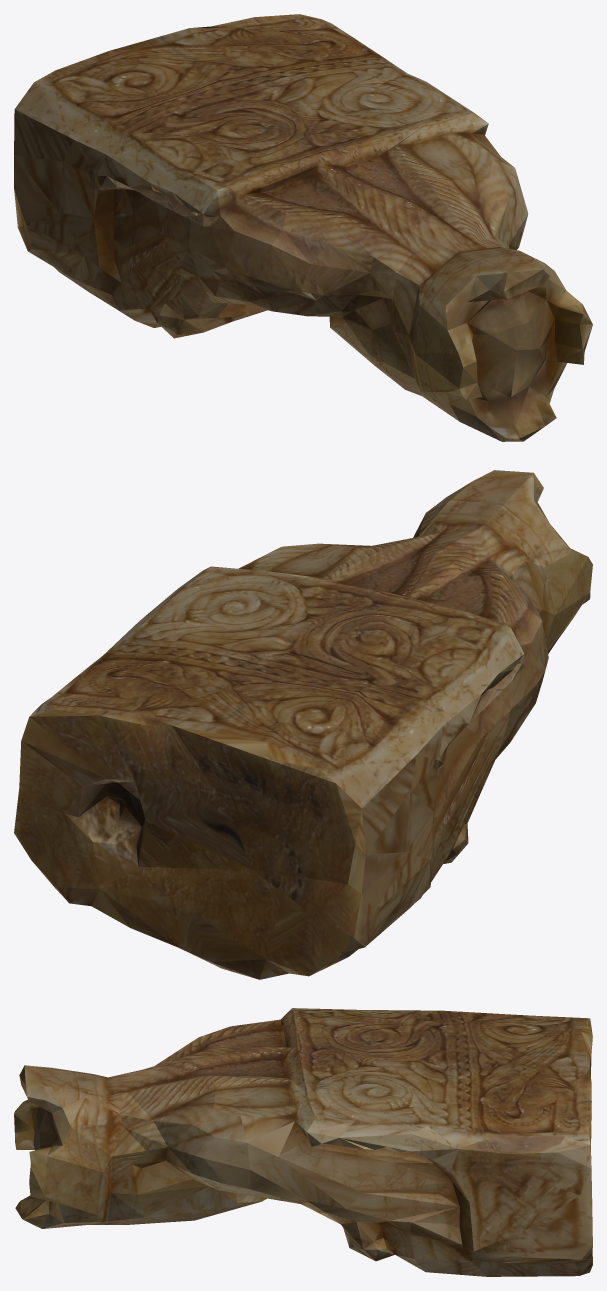
The model's file is king1.glb.
The picture shows the model from 3 angles, top to bottom: view 1: azimuth 30°, elevation 25°; view 2: azimuth 150°, elevation 25°; view 3: azimuth 270°, elevation 25°; orthographic projection. The views are drawn at different scales.
Visible parts, largest first — view 1: king_model.001; view 2: king_model.001; view 3: king_model.001.
Part boxes in pixels (left/top/right/bottom): king_model.001: left=14, top=14, right=592, bottom=441; king_model.001: left=14, top=470, right=592, bottom=979; king_model.001: left=14, top=1008, right=592, bottom=1276.
Bounding box in the file's own units: 2.19 × 1.48 × 3.93.
1 material, 1 textured.
